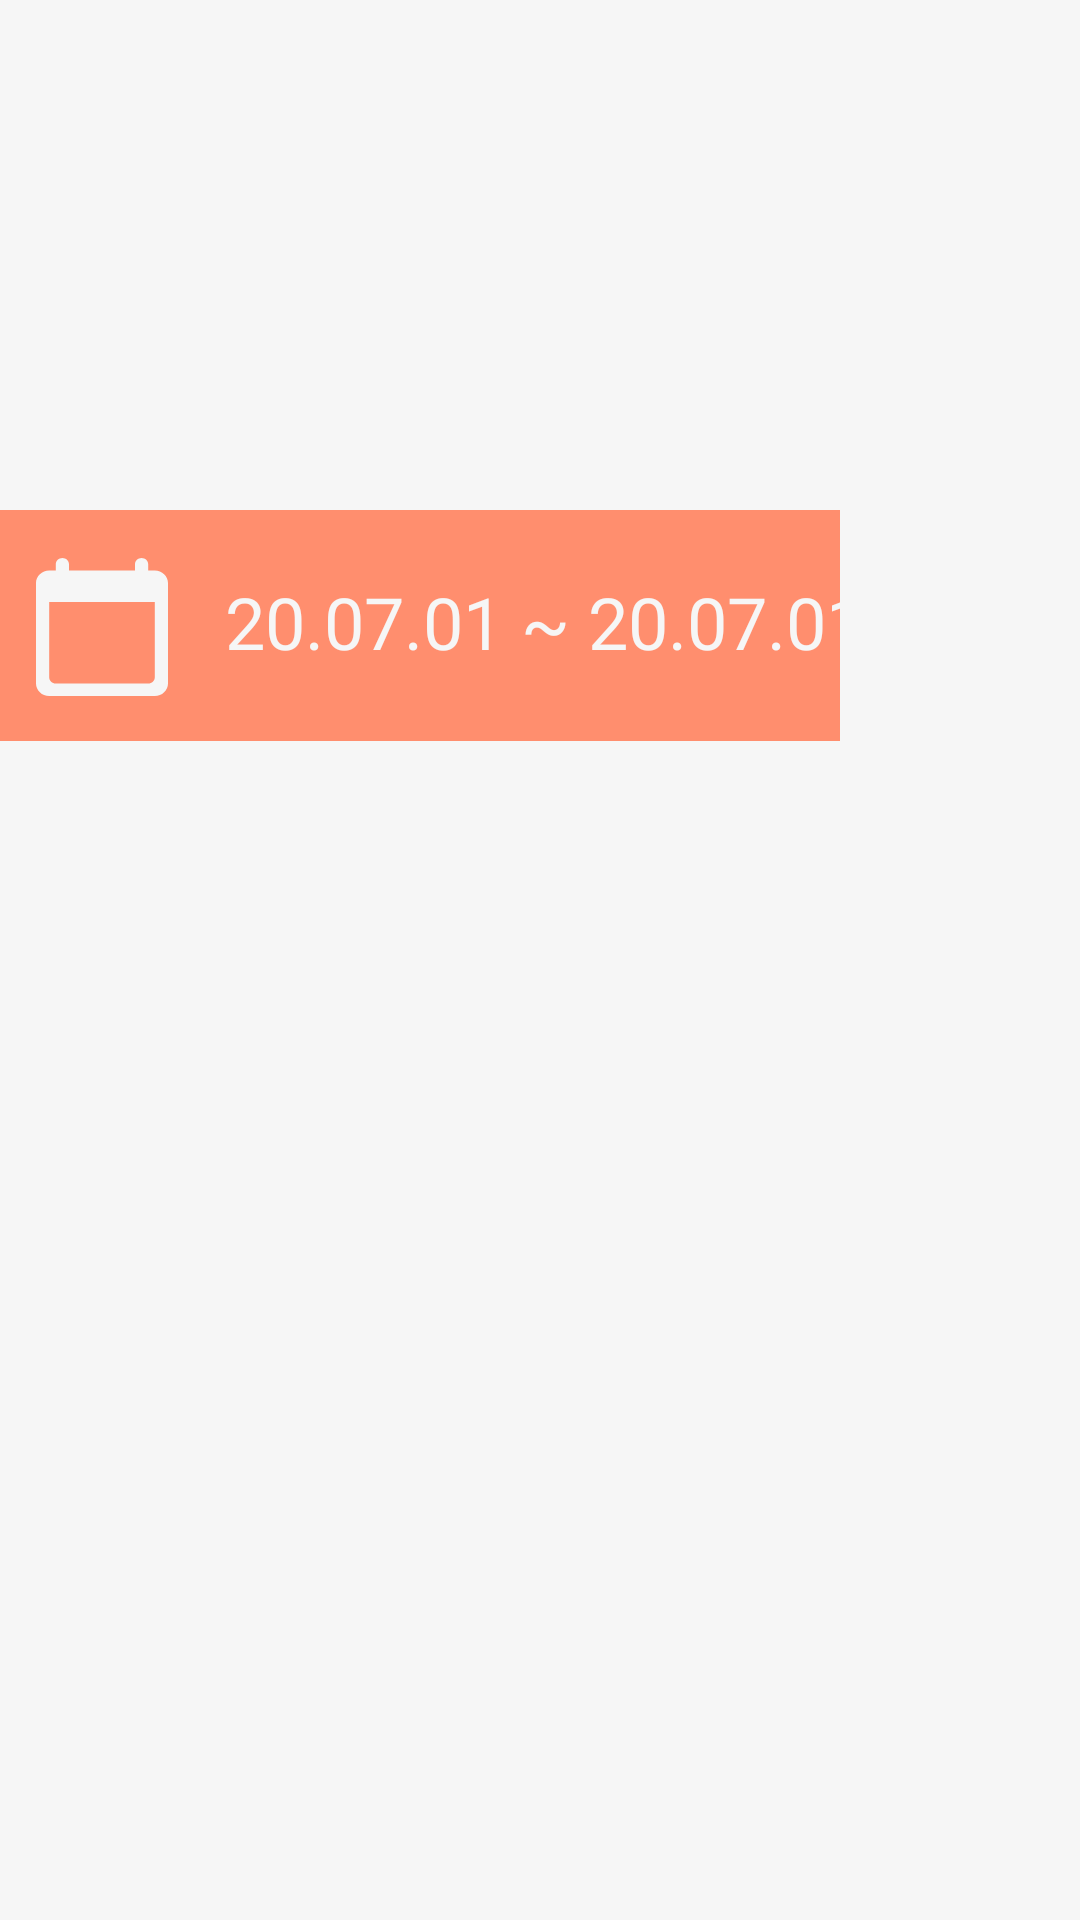

Locate icon controls on the screen. Image size 1080 × 1920, boxes as (x1, y1, x2, y2).
calendar today: (36, 558, 168, 696)
